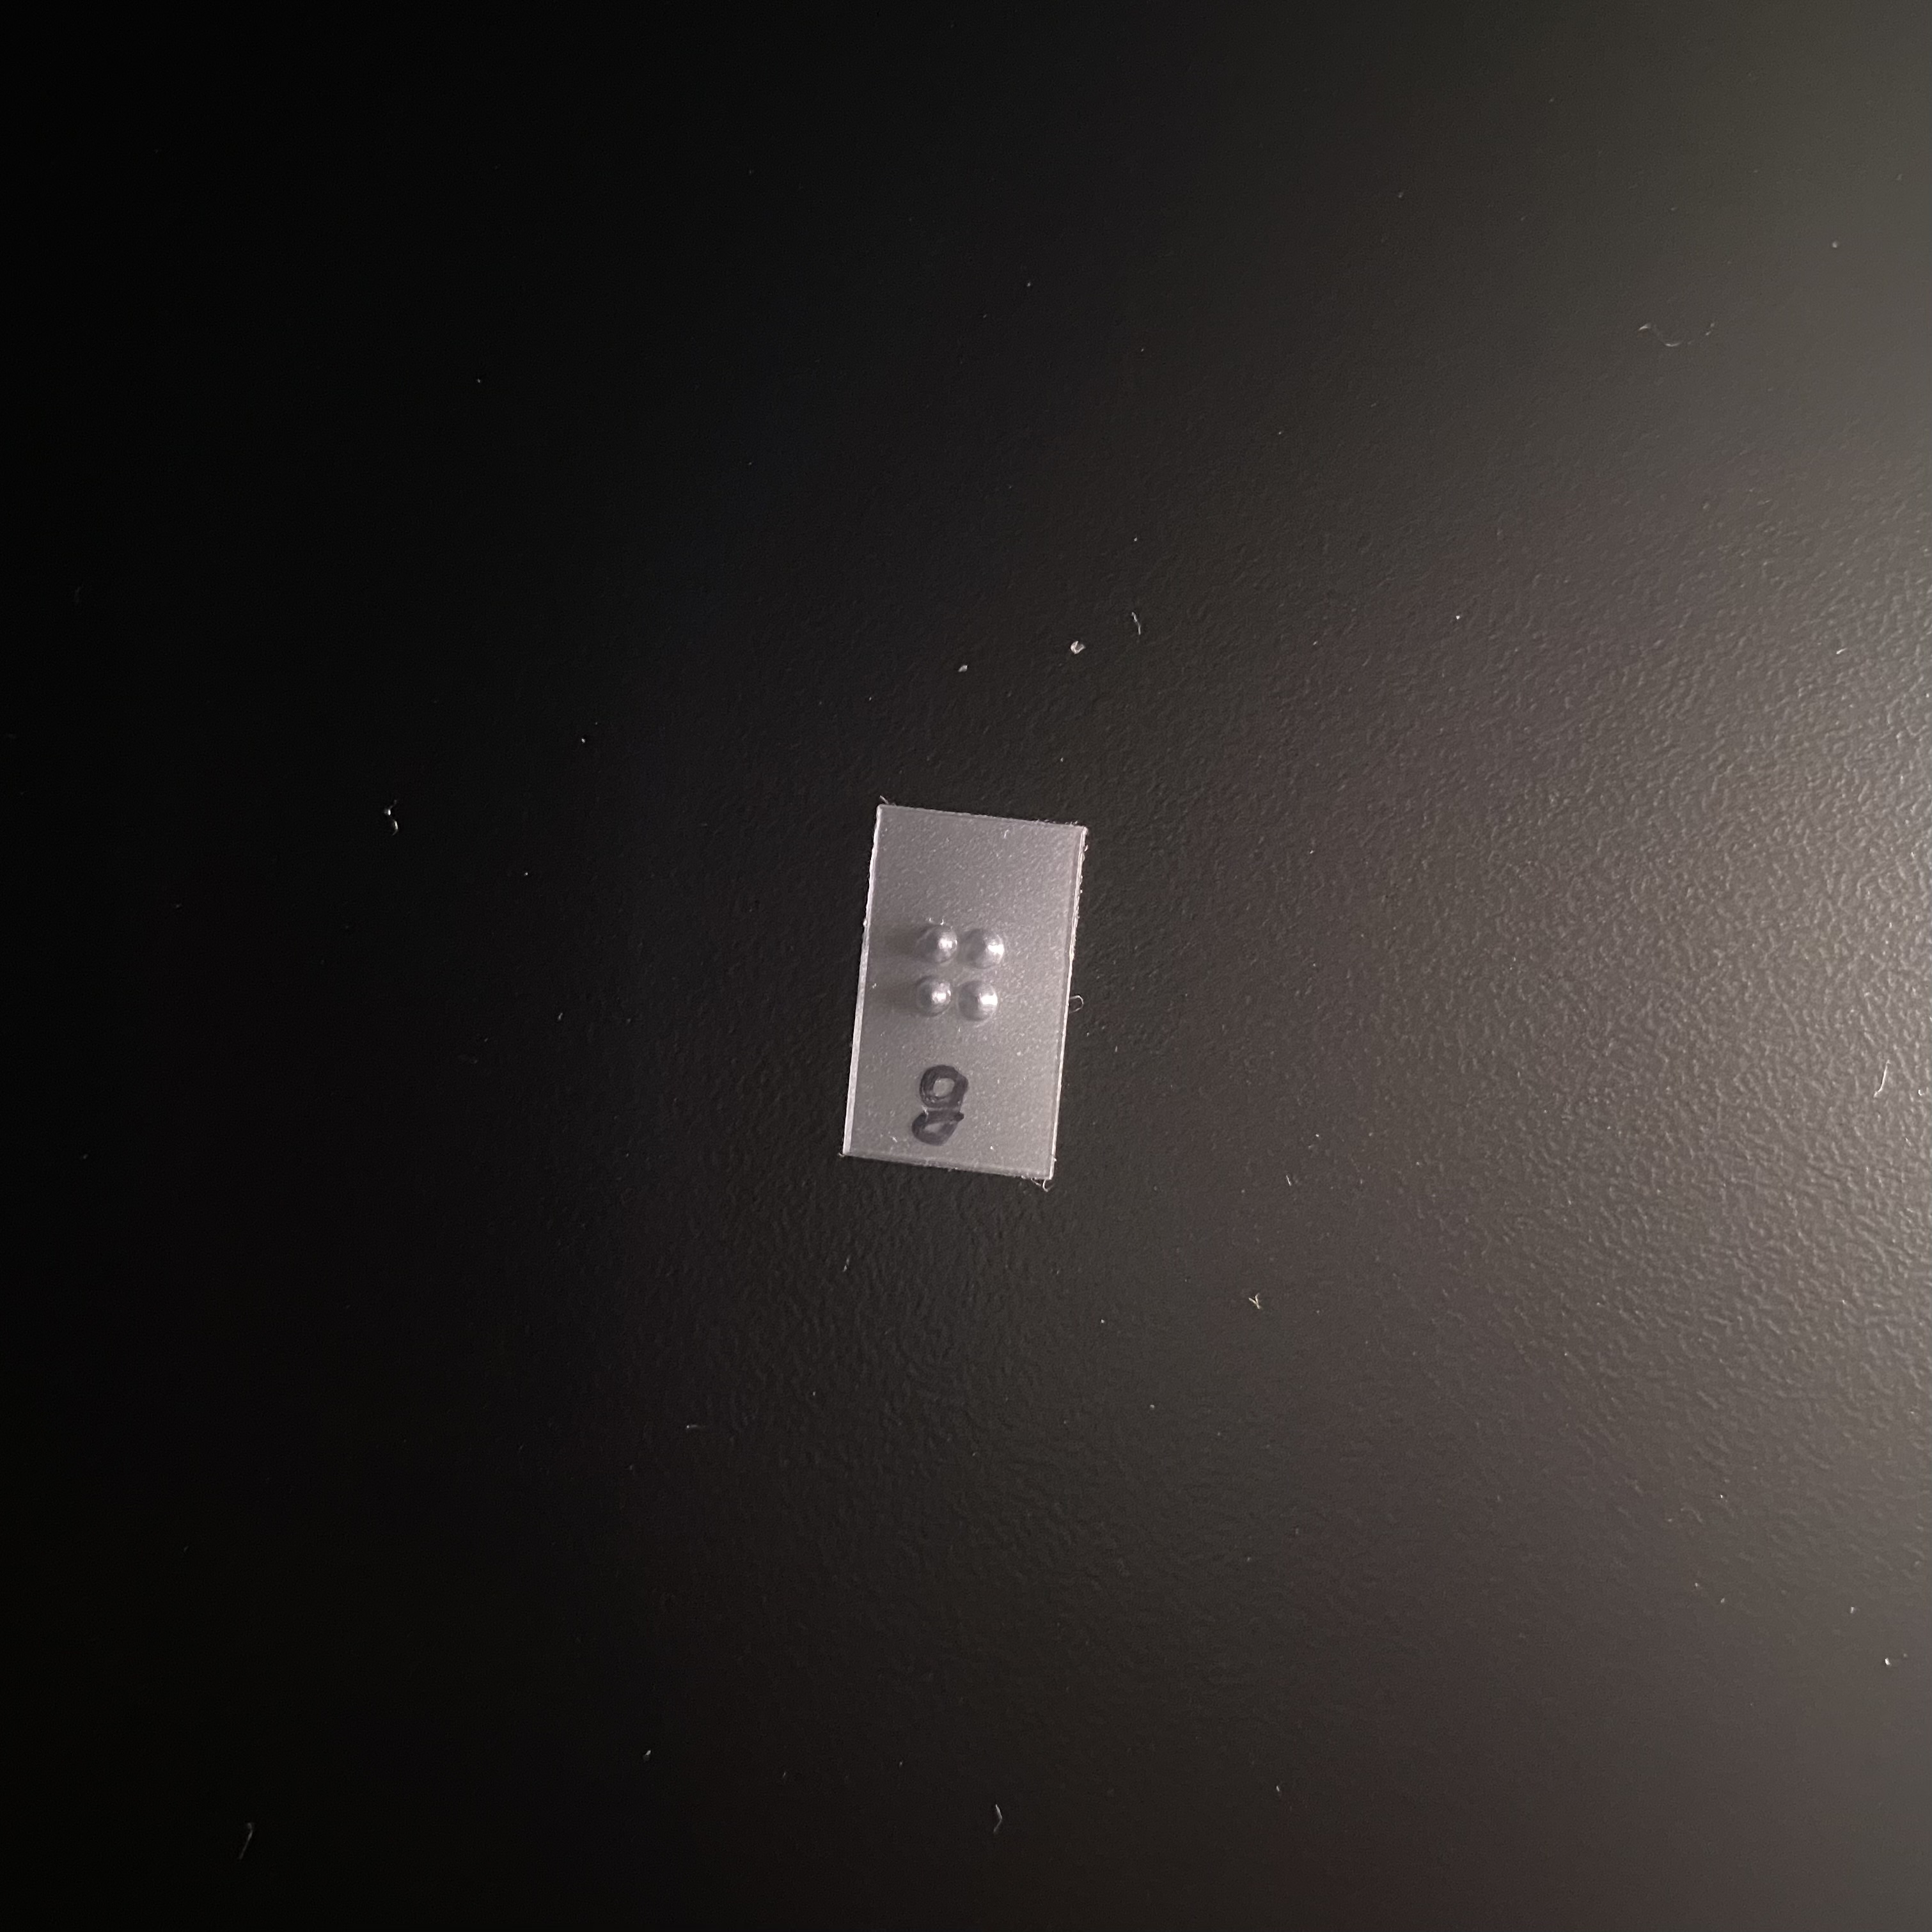g: (904, 911, 1016, 1092)
